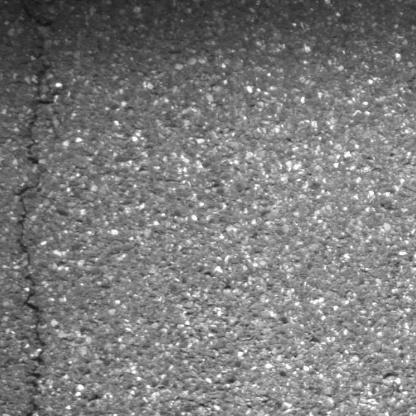Cracks: (0, 63, 61, 416)
